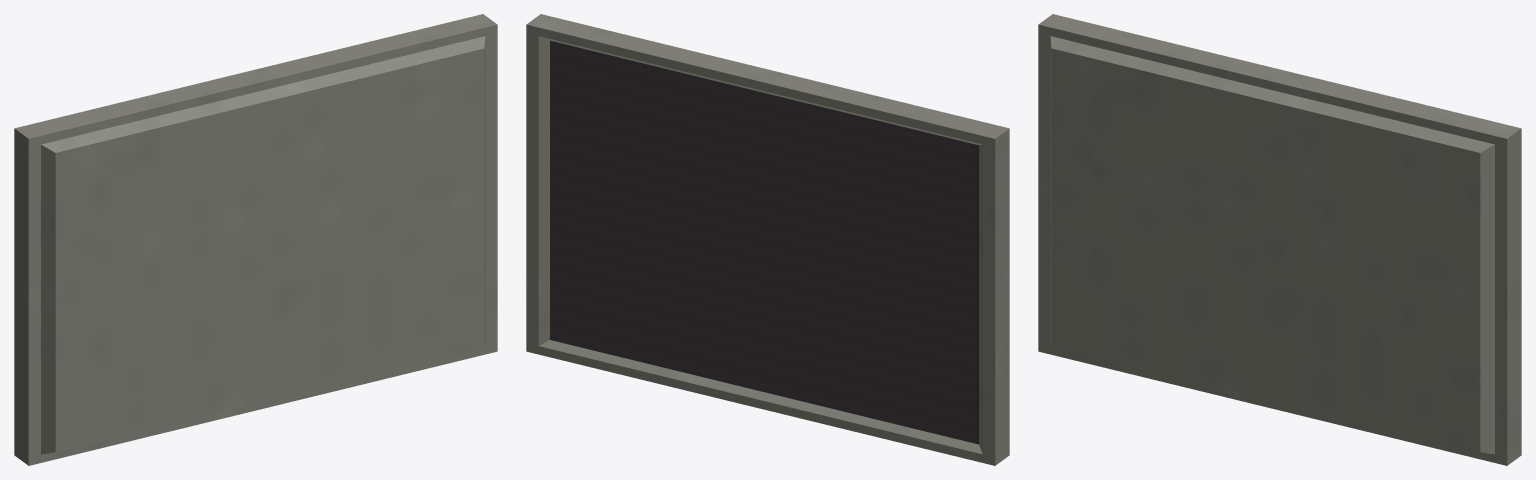
Rendered from monitor.fbx.
3 views of the same model, side by side, from view 1: azimuth 30°, elevation 25°; view 2: azimuth 150°, elevation 25°; view 3: azimuth 330°, elevation 25° (orthographic).
Parts seen in each view (by area): view 1: monitor; view 2: monitor; view 3: monitor.
Part boxes in pixels (x1,y1,x2,y2): monitor: (14,14,497,465); monitor: (526,14,1009,465); monitor: (1038,14,1521,465).
Size of the model in its own units: 234 by 156 by 18.49.
